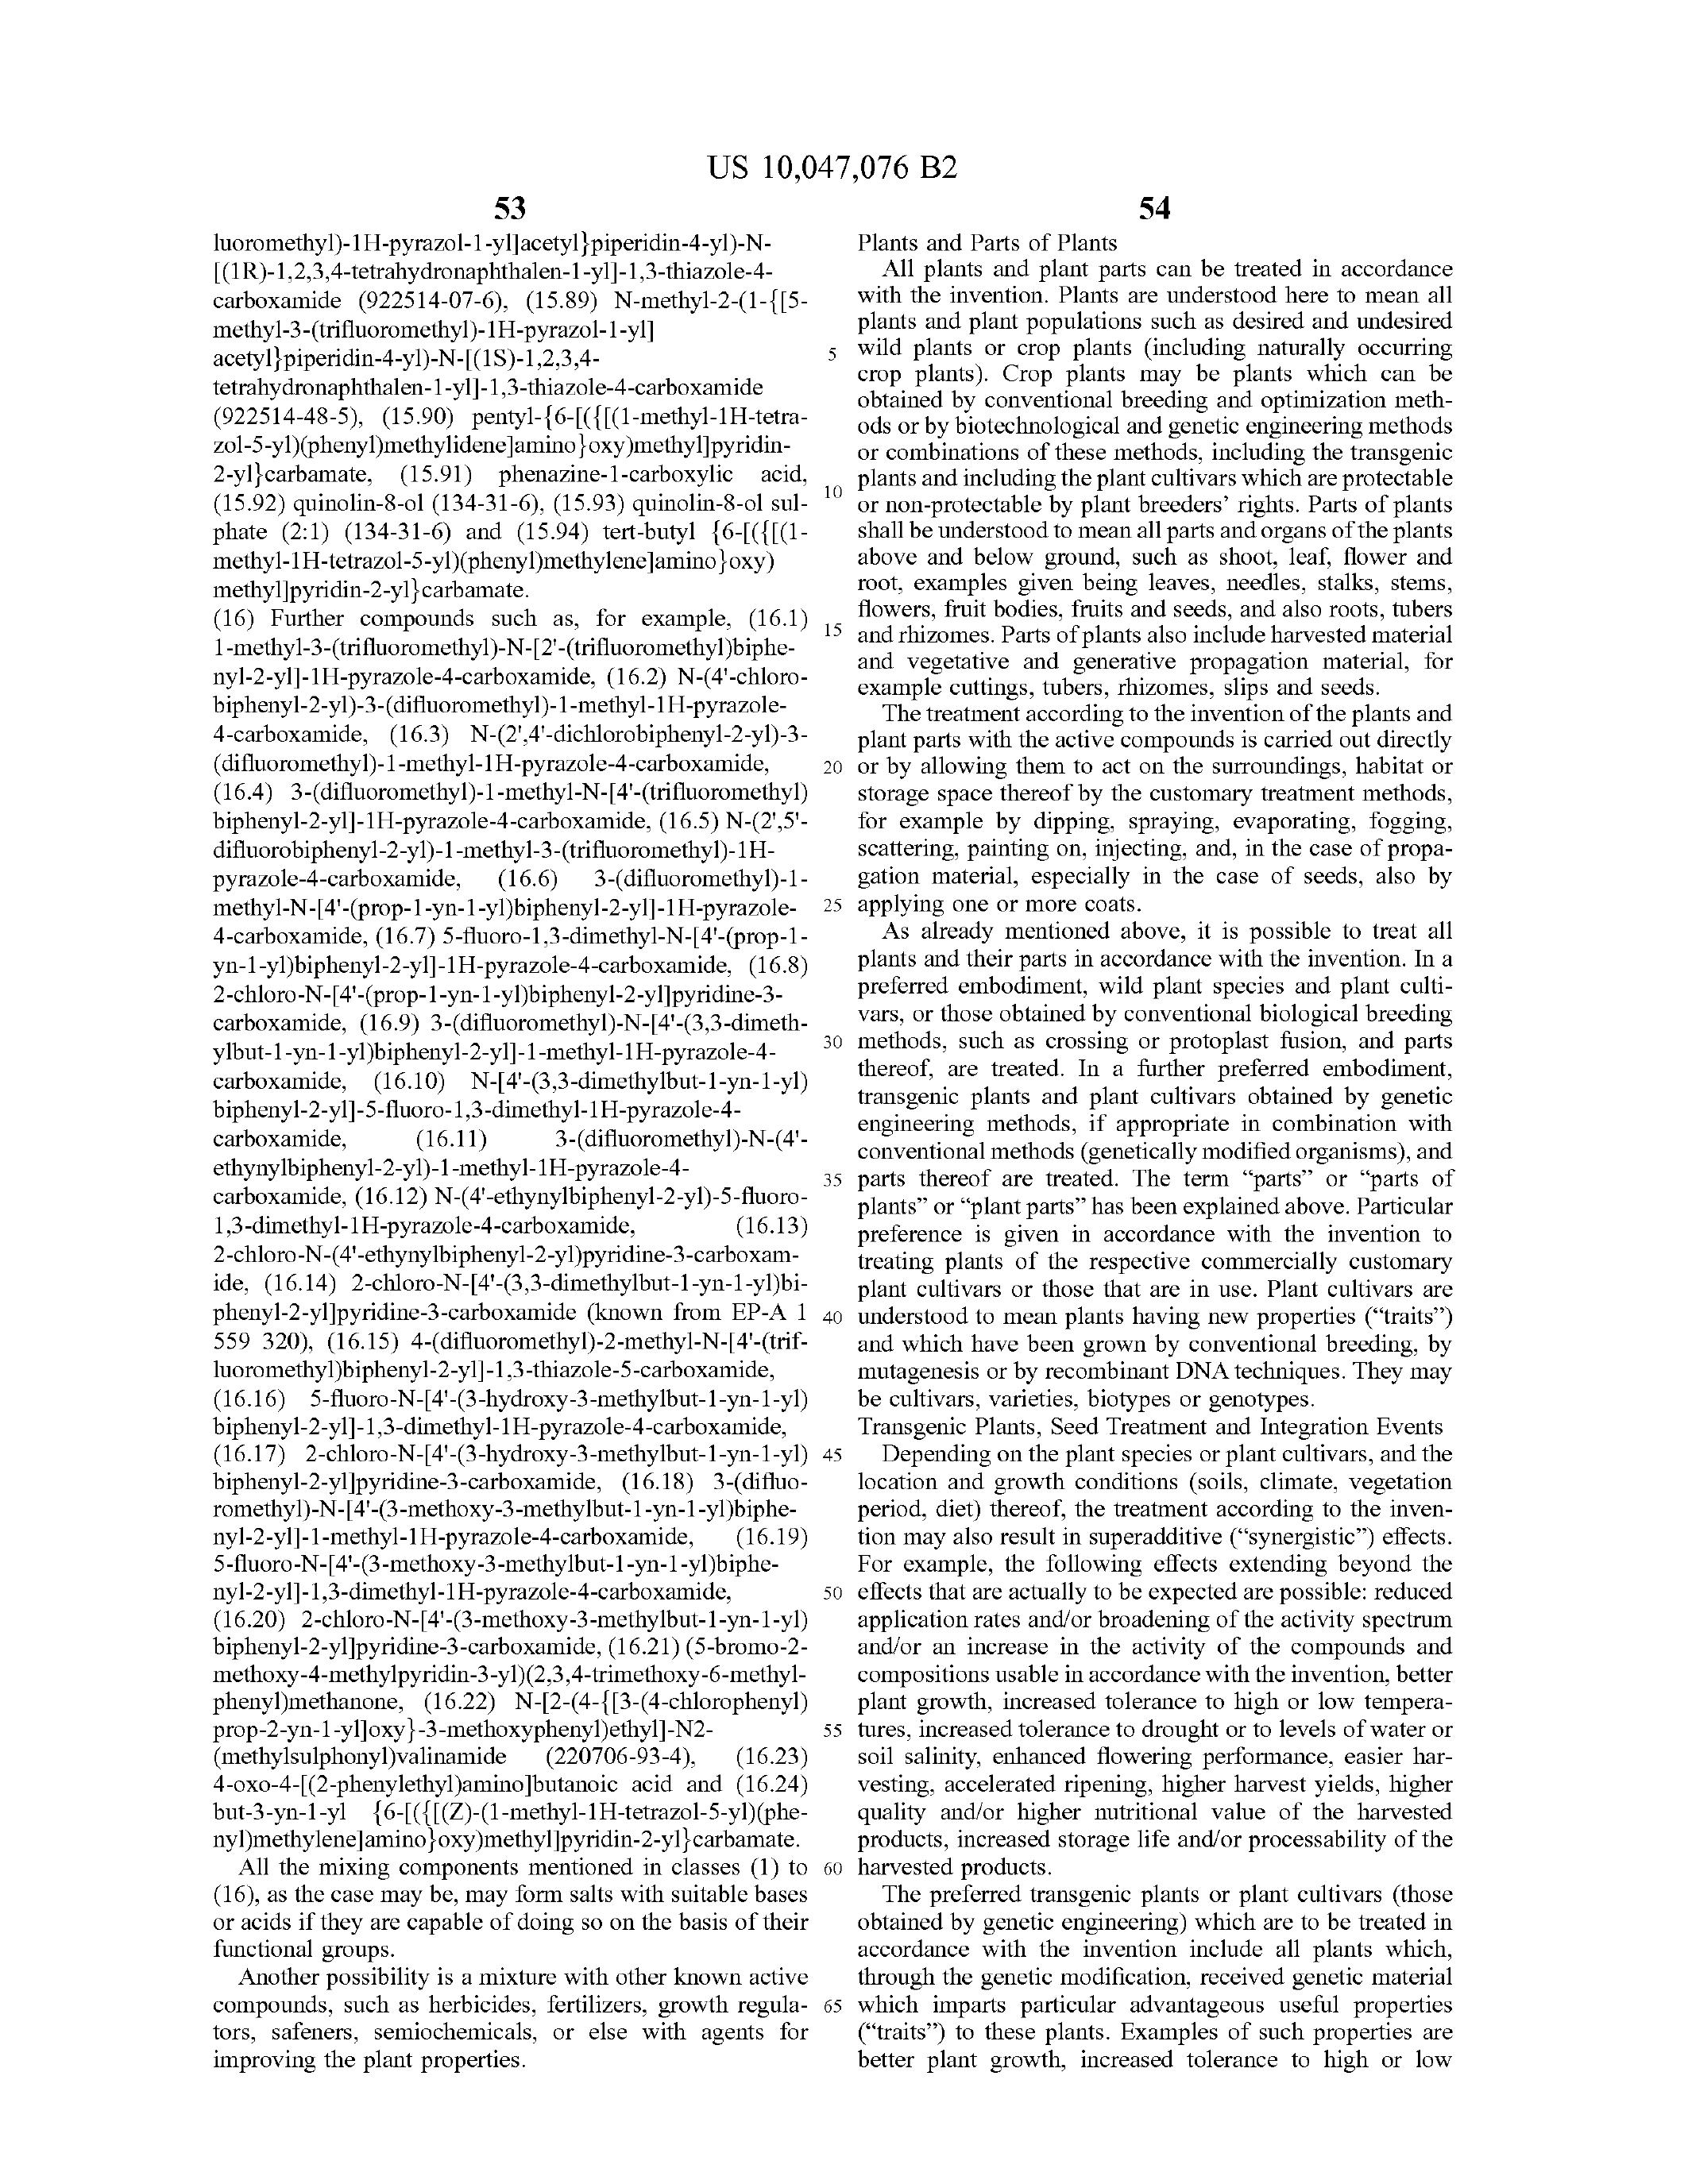substitutes: (209, 229, 812, 590)
